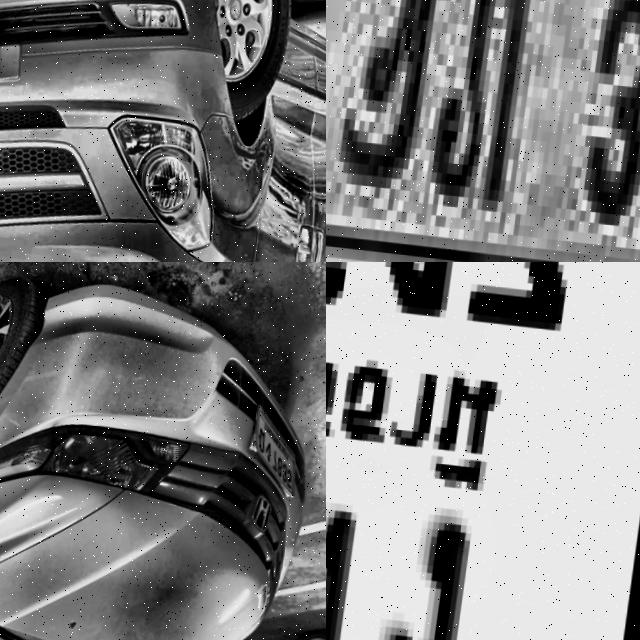license-plate: (326, 262, 640, 640), (326, 0, 640, 262), (245, 396, 312, 499)
